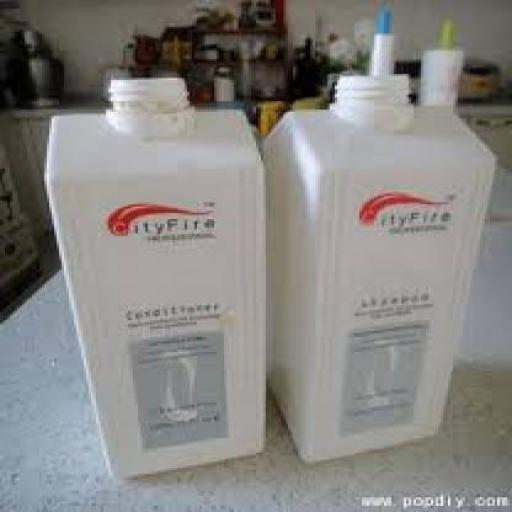plastic: (258, 70, 498, 464), (39, 76, 261, 477), (416, 47, 463, 103), (370, 32, 392, 70)
